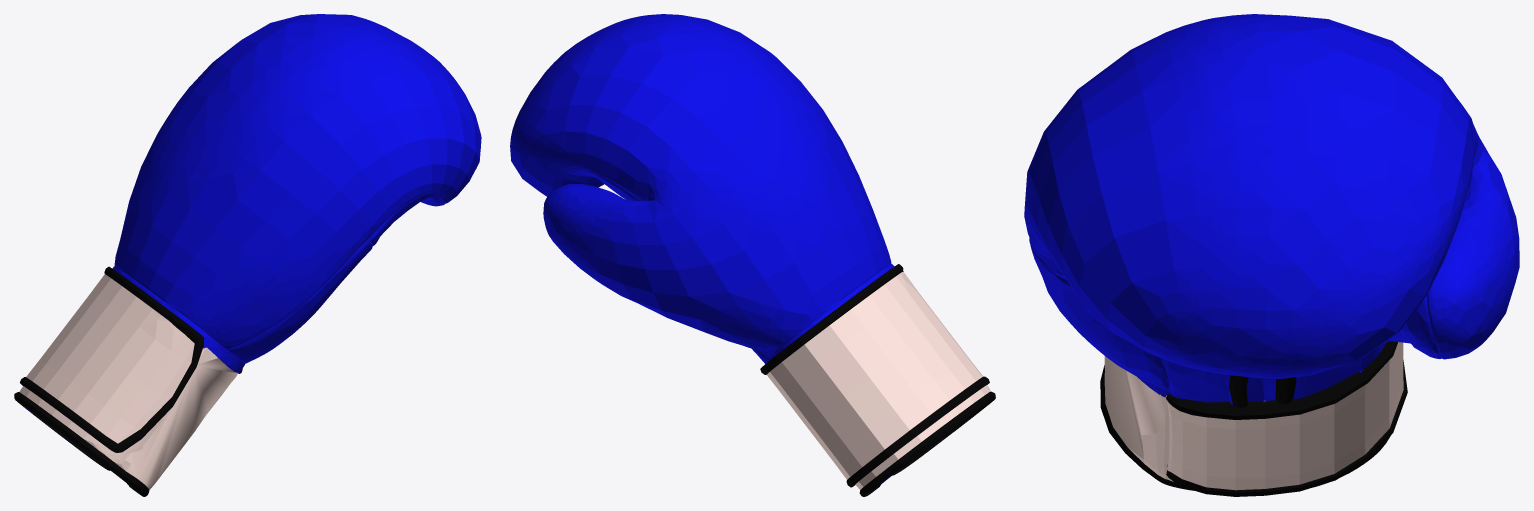
Rendered from Blue_RightGlove.fbx.
3 renders of one model, left to right at view 1: azimuth 30°, elevation 25°; view 2: azimuth 150°, elevation 25°; view 3: azimuth 270°, elevation 25°, orthographic. The views are drawn at different scales.
Parts seen in each view (by area): view 1: 15969_Boxing_Glove_new; view 2: 15969_Boxing_Glove_new; view 3: 15969_Boxing_Glove_new.
Boxes of the visible parts, x1,y1,x2,y2 form: 15969_Boxing_Glove_new: [14, 14, 481, 496]; 15969_Boxing_Glove_new: [510, 14, 995, 496]; 15969_Boxing_Glove_new: [1024, 14, 1519, 496].
Size of the model in its own units: 2146 by 1903 by 1369.
